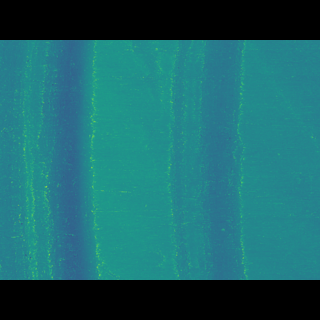Loch: (0, 70, 103, 251), (166, 70, 250, 249)
